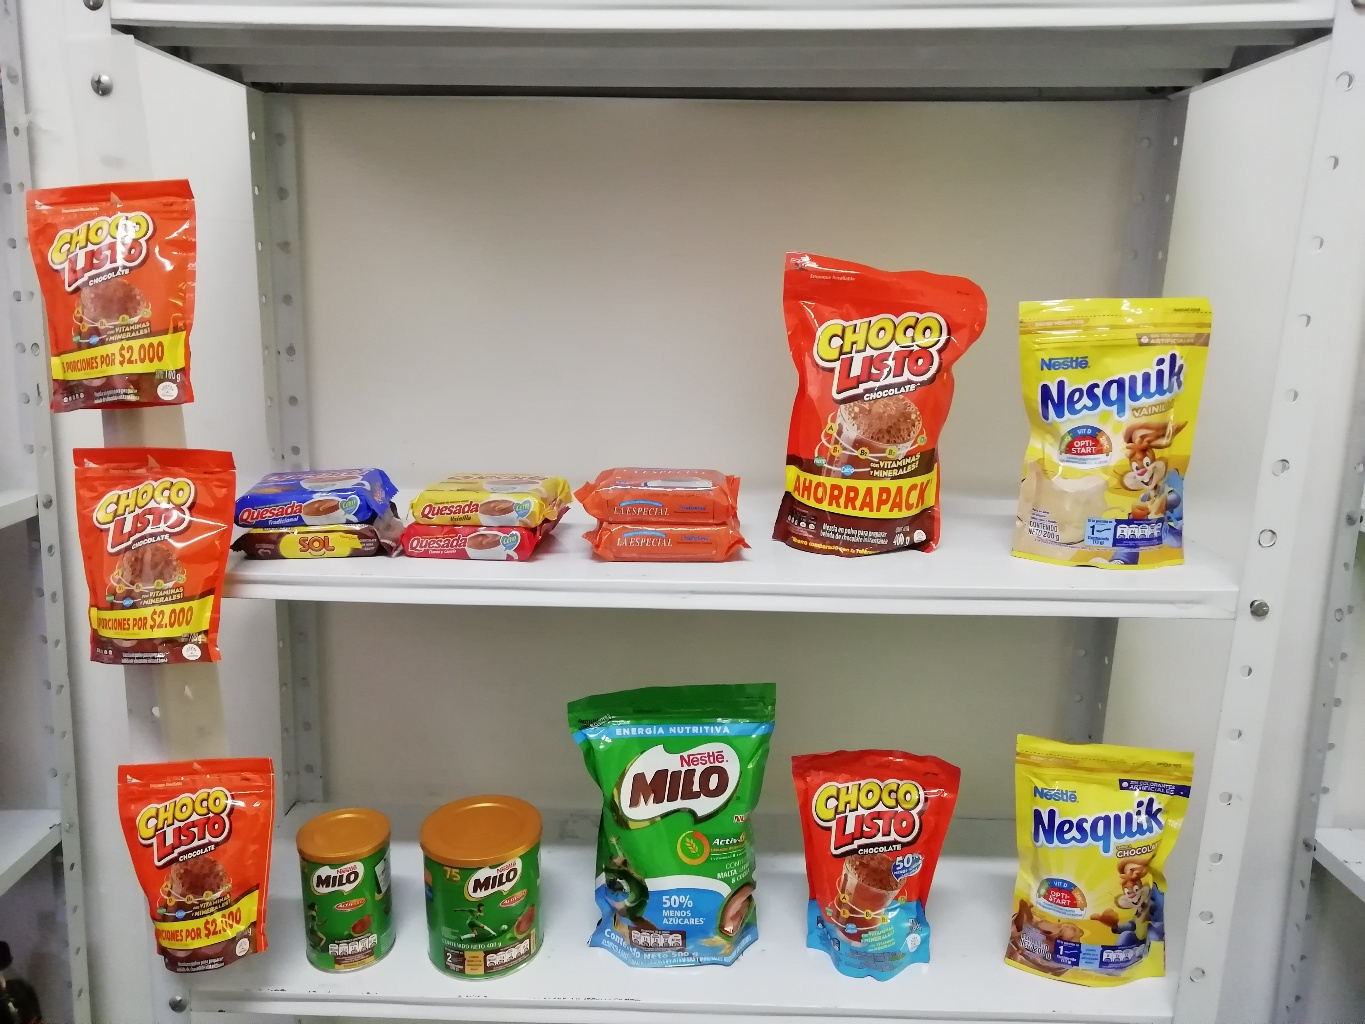COL0170103DYP10000: (68, 446, 231, 666)
COL0170103DYP40000: (767, 250, 993, 560)
COL0170104DYP20000: (792, 750, 966, 985)
COL0170203LAT20000: (297, 796, 400, 978)
COL0170203LAT40000: (411, 795, 554, 982)
COL0170205DYP50000: (563, 682, 784, 969)
COL0170303DYP20000: (1006, 725, 1204, 998)
COL0170306DYP20000: (1015, 296, 1215, 580)
